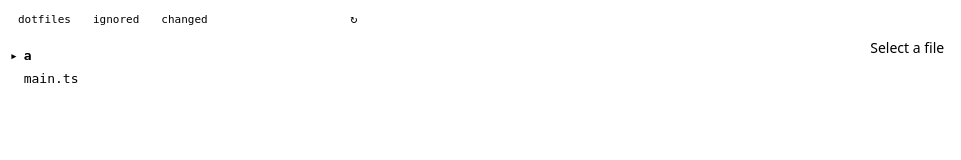
Scenario: single-child chain collapse › expanding the chain renders ONE combined row with working chevron and levels
Click the list item with class "tree-row" showing "▸ a": (21, 56) x1=10 y1=48 x2=32 y2=63
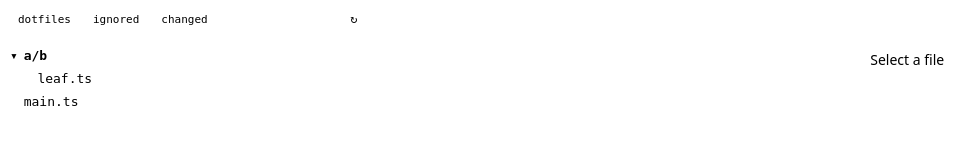
Expected: the text with class "chevron" reads "▾", x1=10 y1=48 x2=18 y2=63
